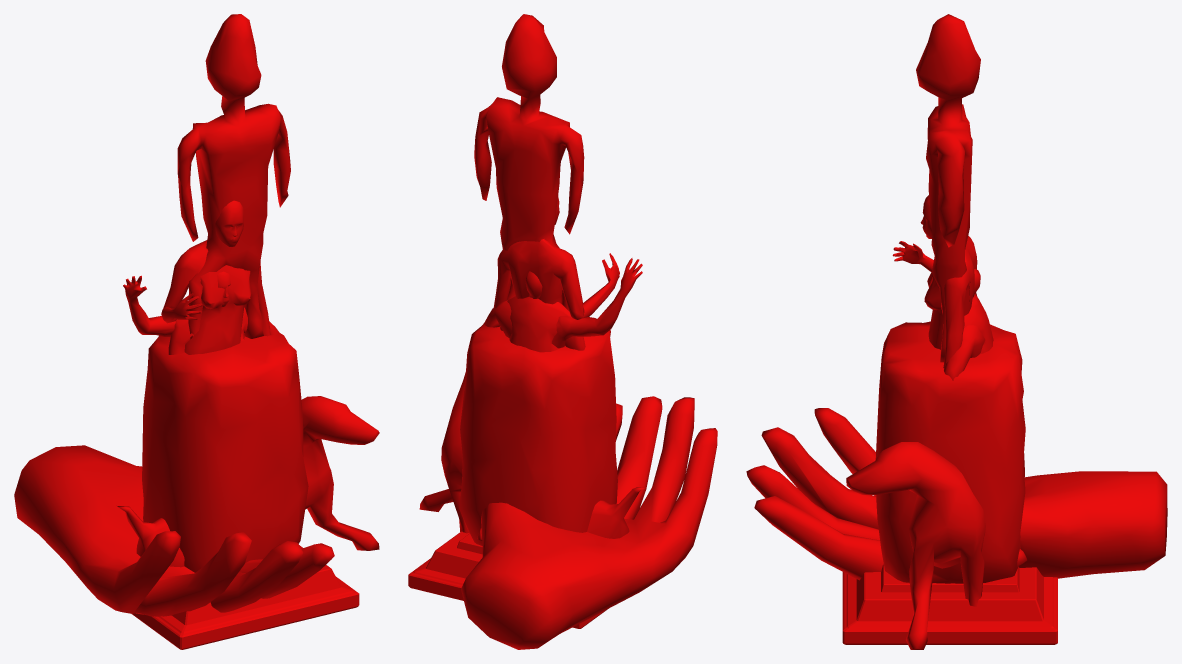
The model's file is statues_grp.fbx.
3 renders of one model, left to right at view 1: azimuth 30°, elevation 25°; view 2: azimuth 150°, elevation 25°; view 3: azimuth 270°, elevation 25°, orthographic. The views are drawn at different scales.
Visible parts, largest first — view 1: stone_statue, hand_statue, waving_statue, towel_statue, dog_statue, fertility_statue; view 2: stone_statue, hand_statue, waving_statue, towel_statue, dog_statue, fertility_statue; view 3: stone_statue, hand_statue, waving_statue, dog_statue, towel_statue, fertility_statue.
Part boxes in pixels (box(x1,y1,x2,y2)): stone_statue: box(142, 14, 308, 572); hand_statue: box(14, 445, 334, 616); waving_statue: box(123, 275, 359, 649); towel_statue: box(161, 200, 270, 354); dog_statue: box(117, 396, 379, 567); fertility_statue: box(168, 271, 247, 354); stone_statue: box(459, 14, 617, 545); hand_statue: box(461, 396, 717, 649); waving_statue: box(408, 258, 642, 628); towel_statue: box(493, 196, 619, 347); dog_statue: box(419, 372, 644, 538); fertility_statue: box(457, 296, 585, 554); stone_statue: box(875, 14, 1025, 583); hand_statue: box(746, 408, 1167, 580); waving_statue: box(842, 269, 1057, 644); dog_statue: box(846, 442, 985, 649); towel_statue: box(892, 195, 977, 368); fertility_statue: box(881, 273, 1019, 592).
Bounding box in the file's own units: 29.7 × 59.63 × 38.05.
